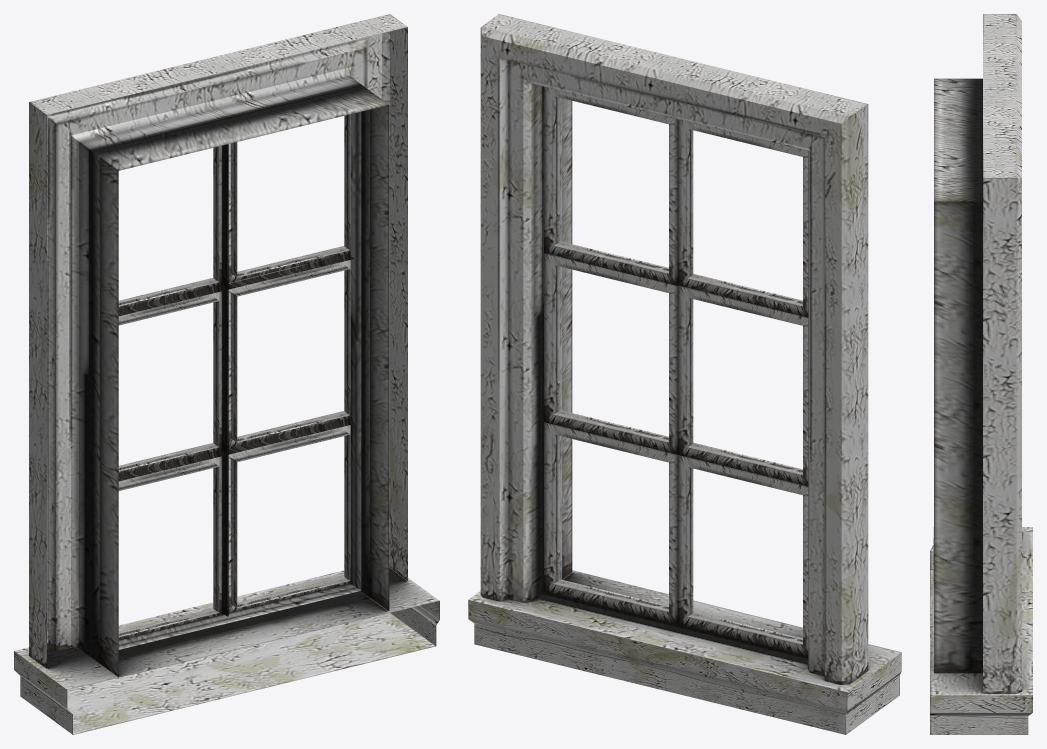
Rendered from fenetre02.fbx.
The picture shows the model from 3 angles, left to right: view 1: azimuth 30°, elevation 25°; view 2: azimuth 150°, elevation 25°; view 3: azimuth 270°, elevation 25°; orthographic projection. The views are drawn at different scales.
Visible parts, largest first — view 1: polySurface344; view 2: polySurface344; view 3: polySurface344.
Boxes of the visible parts, bbox=[...] form: polySurface344: bbox=[14, 14, 439, 734]; polySurface344: bbox=[468, 14, 901, 734]; polySurface344: bbox=[930, 14, 1032, 734].
Size of the model in its own units: 137 by 211 by 35.38.
